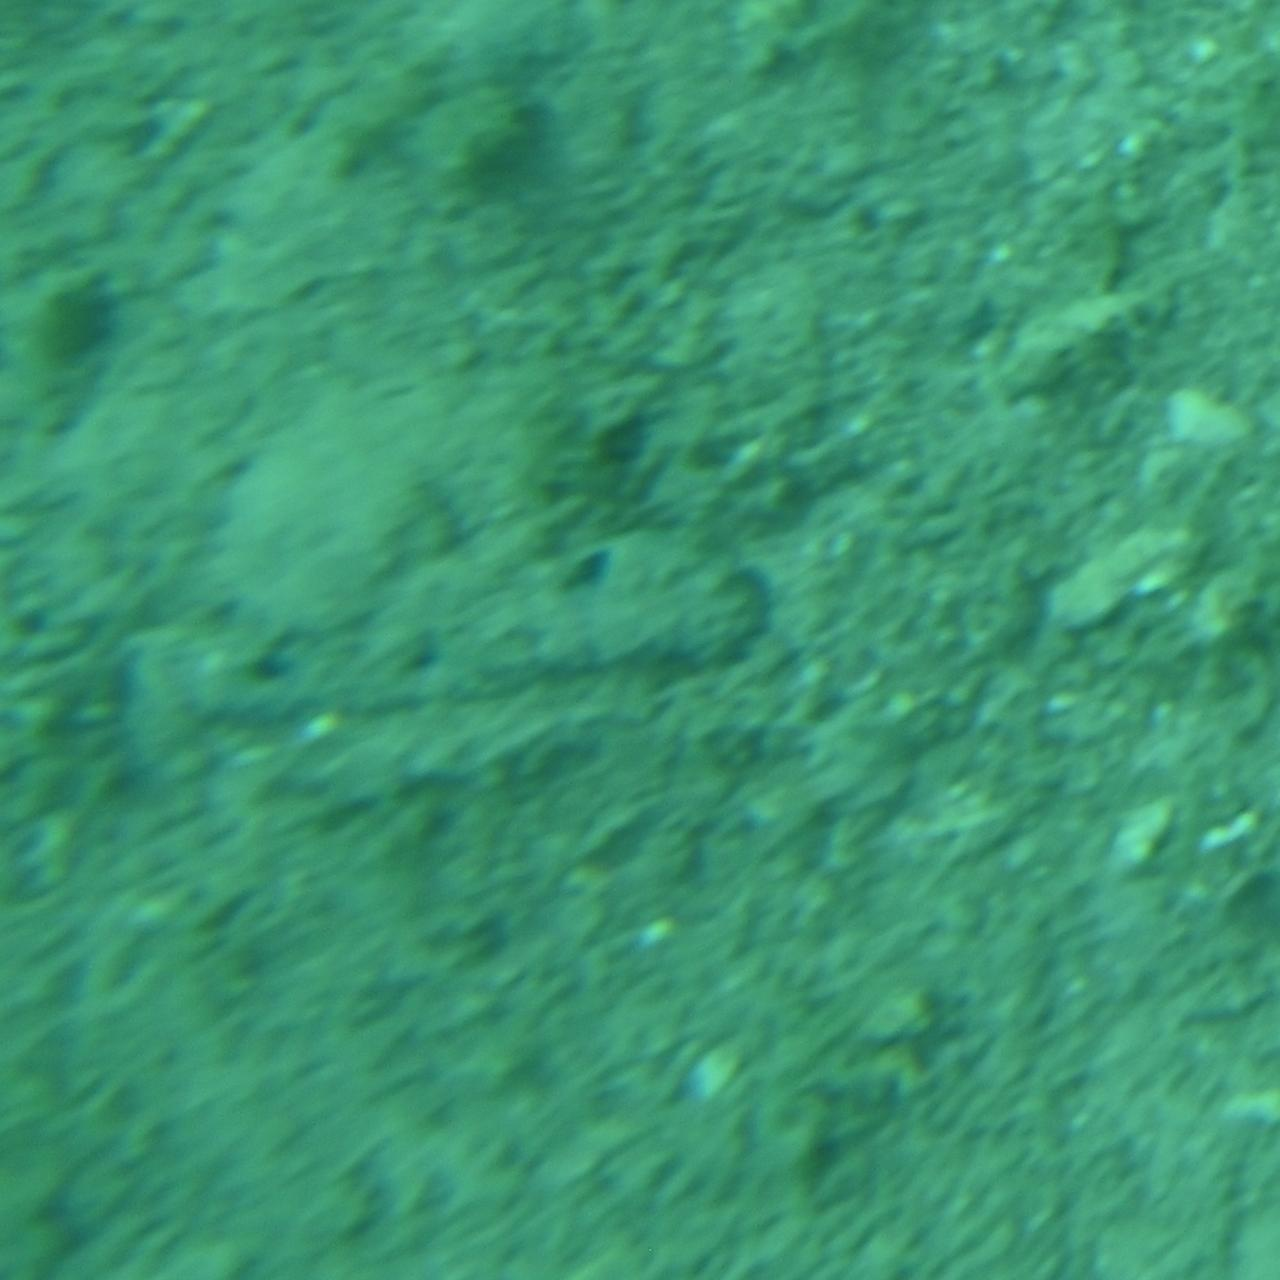Holothuria tubulosa: (102, 515, 787, 765)
